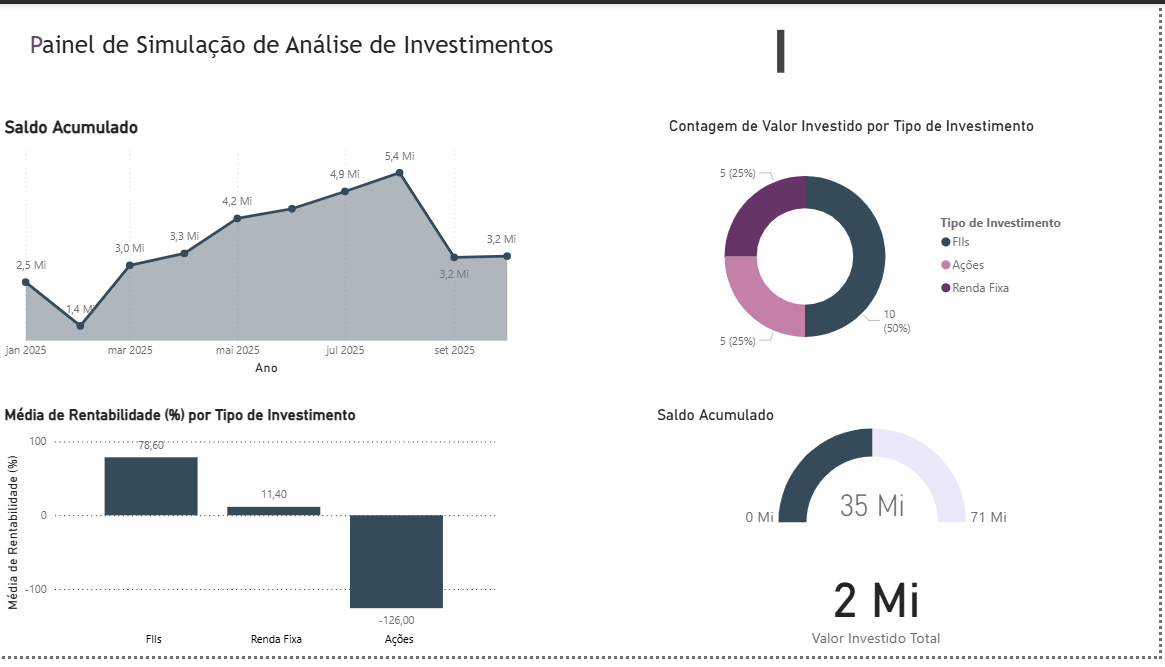

The dashboard page shown, as its layout file describes it:
{"tool":"powerbi","page":{"name":"Investimentos_1","canvas":[1280,720],"ordinal":0},"visuals":[{"type":"lineChart","title":"Saldo Acumulado","fields":{"Y":["Sum(dados_investimentos_ptbr.Saldo Acumulado)"],"Category":["dados_investimentos_ptbr.Data.Variation.Hierarquia de datas.Ano","dados_investimentos_ptbr.Data.Variation.Hierarquia de datas.Mês"]},"box":[0,124.7,587.7,289.1],"z":0},{"type":"donutChart","fields":{"Y":["CountNonNull(dados_investimentos_ptbr.Valor Investido)"],"Category":["dados_investimentos_ptbr.Tipo de Investimento"]},"box":[733.2,124.7,453.5,289.1],"z":1000},{"type":"clusteredColumnChart","fields":{"Category":["dados_investimentos_ptbr.Tipo de Investimento"],"Y":["Avg(dados_investimentos_ptbr.Rentabilidade (%))"]},"box":[0,444.1,553.7,275.9],"z":2000},{"type":"gauge","fields":{"Y":["dados_investimentos_ptbr.Soma_saldo"]},"box":[720,444.1,493.2,138],"z":3000},{"type":"card","fields":{"Values":["Sum(dados_investimentos_ptbr.Valor Investido)"]},"box":[720,600.9,493.2,119.1],"z":4000},{"type":"textbox","box":[564,444,156,276],"z":5000},{"type":"textbox","box":[37.9,8.8,846.2,52.5],"z":6000},{"type":"shape","box":[0,0,1280,49.6],"z":6001},{"type":"textbox","box":[8.8,2.9,686.7,44.7],"z":6002},{"type":"shape","box":[1189.5,0,58.4,49.6],"z":6003}]}

Visuals, with their boxes in screenshot pixels (x1, y1, x2, y2), scaled from the page's 1280x720 canvas onto the 1165x667 screenshot:
"Saldo Acumulado" lineChart: 0:116:535:383
donutChart - CountNonNull(dados_investimentos_ptbr.Valor Investido) x dados_investimentos_ptbr.Tipo de Investimento: 667:116:1080:383
clusteredColumnChart - dados_investimentos_ptbr.Tipo de Investimento x Avg(dados_investimentos_ptbr.Rentabilidade (%)): 0:411:504:666
gauge - dados_investimentos_ptbr.Soma_saldo: 655:411:1104:539
card - Sum(dados_investimentos_ptbr.Valor Investido): 655:557:1104:666
textbox: 513:411:655:666
textbox: 34:8:805:57
shape: 0:0:1164:46
textbox: 8:3:633:44
shape: 1083:0:1136:46
